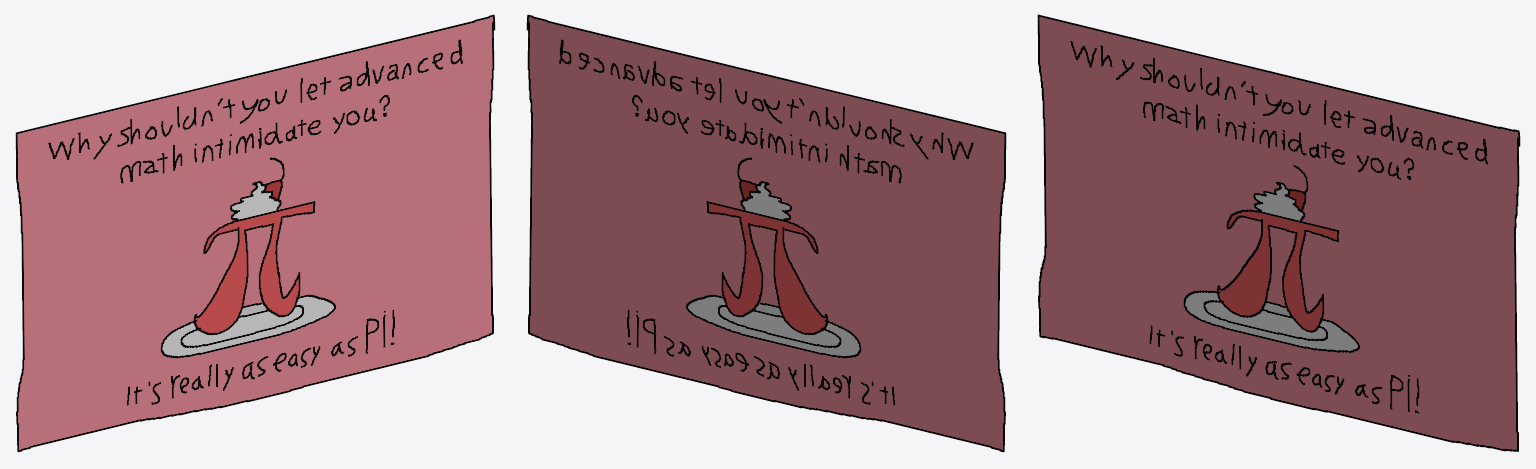
File: exaspi.fbx
3 renders of one model, left to right at view 1: azimuth 30°, elevation 25°; view 2: azimuth 150°, elevation 25°; view 3: azimuth 330°, elevation 25°, orthographic.
Visible parts, largest first — view 1: Cube; view 2: Cube; view 3: Cube.
Boxes of the visible parts, x1,y1,x2,y2 form: Cube: (15,14,495,452); Cube: (526,14,1006,452); Cube: (1037,14,1520,451).
Bounding box in the file's own units: 429 × 280 × 4.57e-05.
